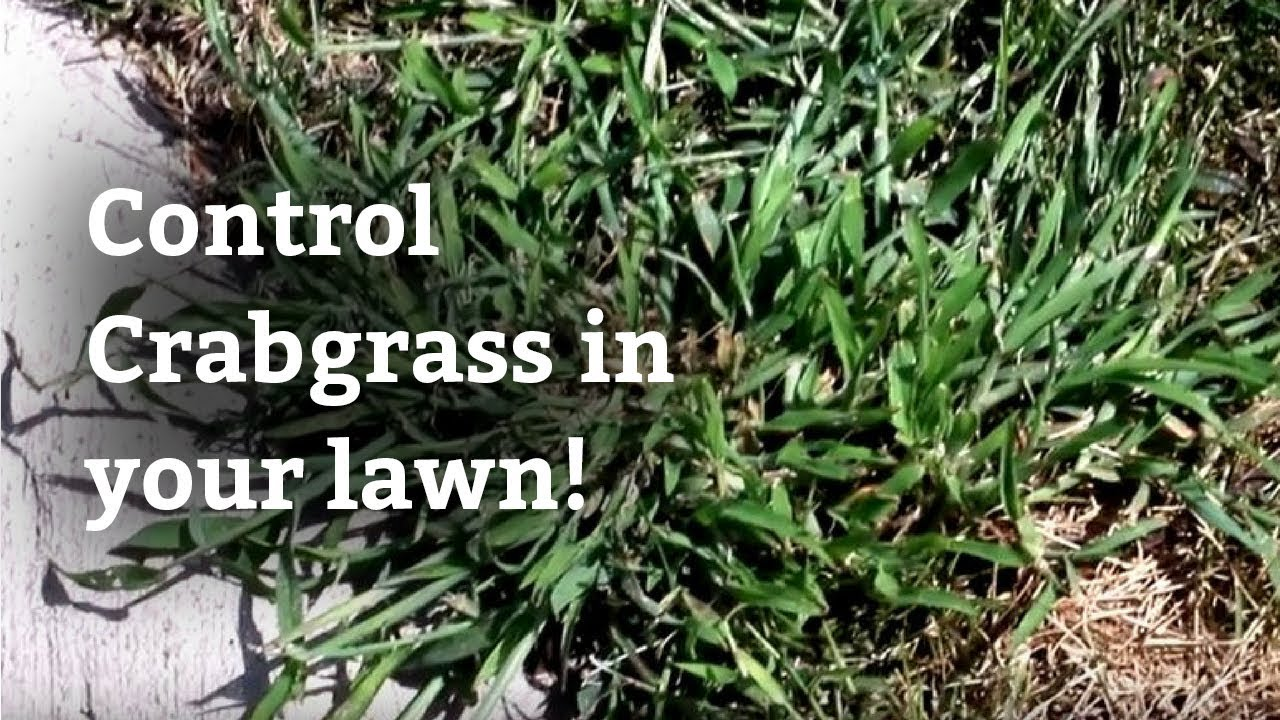crabgrass: (281, 44, 1159, 674)
